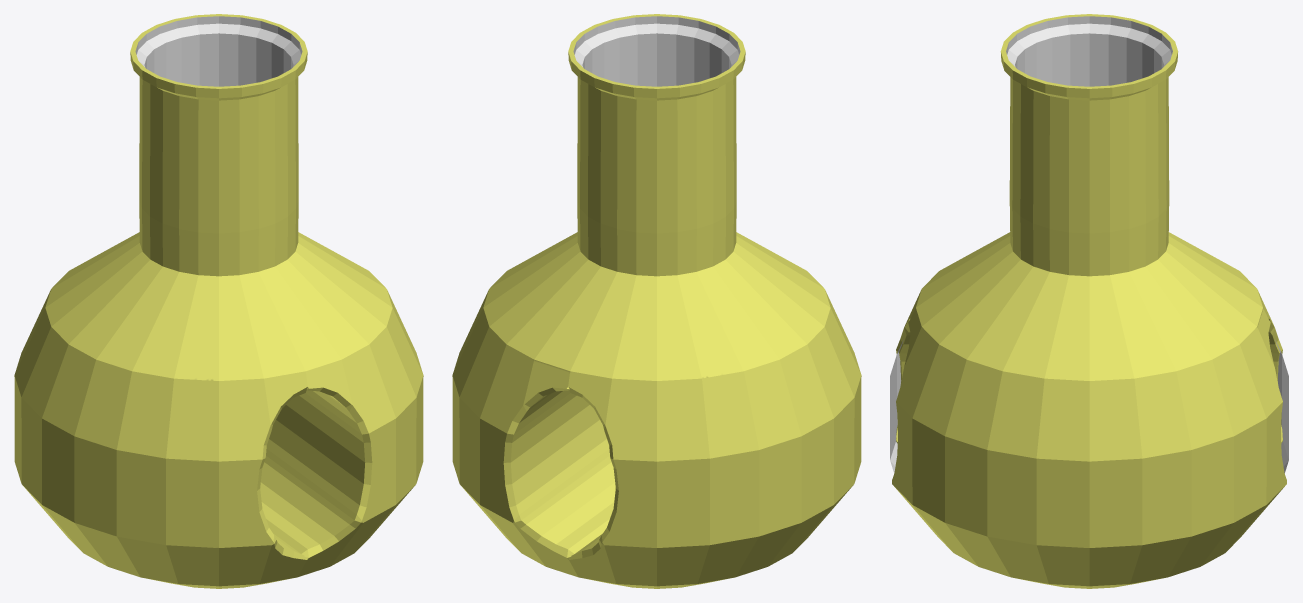
Rendered from Bioling flask.glb.
The picture shows the model from 3 angles, left to right: view 1: azimuth 30°, elevation 25°; view 2: azimuth 150°, elevation 25°; view 3: azimuth 270°, elevation 25°; orthographic projection.
Visible parts, largest first — view 1: Cirkel.001, Cirkel; view 2: Cirkel.001, Cirkel; view 3: Cirkel.001, Cirkel.
Boxes of the visible parts, x1=… form: Cirkel.001: x1=14, y1=14, x2=423, y2=588; Cirkel: x1=135, y1=16, x2=302, y2=86; Cirkel.001: x1=452, y1=14, x2=861, y2=588; Cirkel: x1=573, y1=16, x2=740, y2=86; Cirkel.001: x1=892, y1=14, x2=1286, y2=588; Cirkel: x1=890, y1=16, x2=1288, y2=473.
Size of the model in its own units: 1.98 by 2.66 by 1.93.
Materials: 1 (1 with a texture image).
